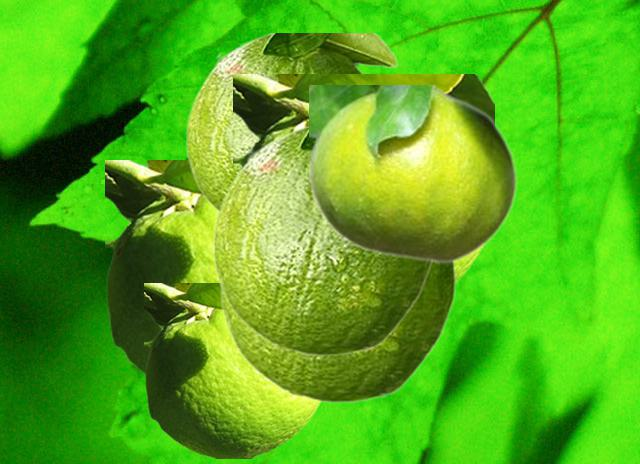dalandan: (233, 74, 493, 285), (212, 125, 434, 355), (185, 33, 397, 211), (309, 85, 517, 263), (219, 263, 458, 402), (144, 283, 322, 457), (105, 160, 217, 376)
